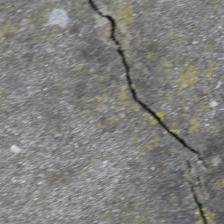Crack: (62, 48, 140, 161), (37, 2, 187, 40)
